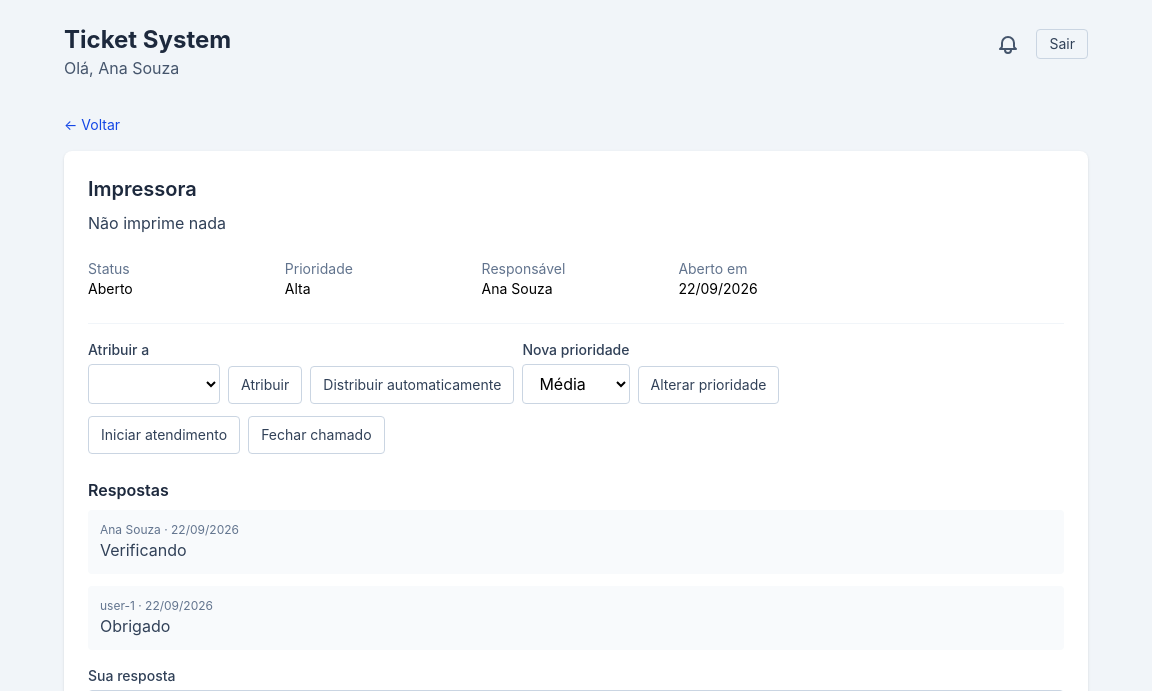
Scenario: TicketDetailView › closing › asks what was done in a dialog before closing
Check: the heading "Impressora" is shown, box [88, 177, 197, 201]
Click the button "Fechar chamado": (316, 435) [248, 416, 385, 454]
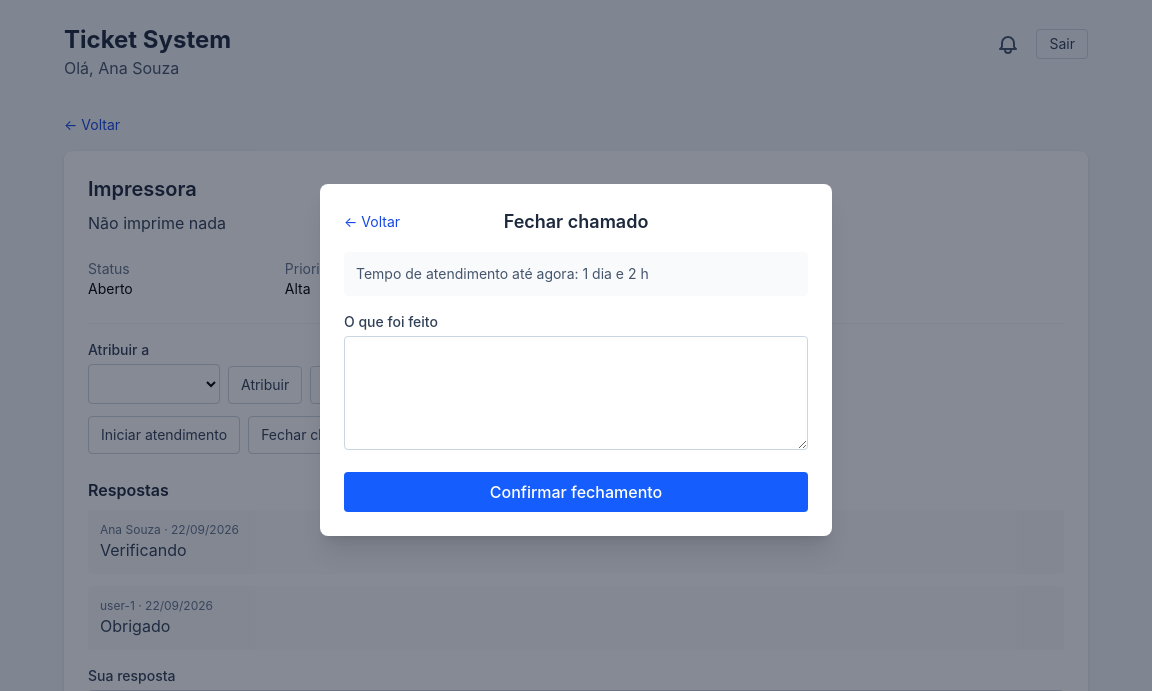
Check: the text "Tempo de atendimento até agora: 1 dia e 2 h" is shown, box [344, 252, 808, 296]
In the text box labelled "O que foi feito": (576, 393) [344, 336, 808, 450], type "Troquei o toner"
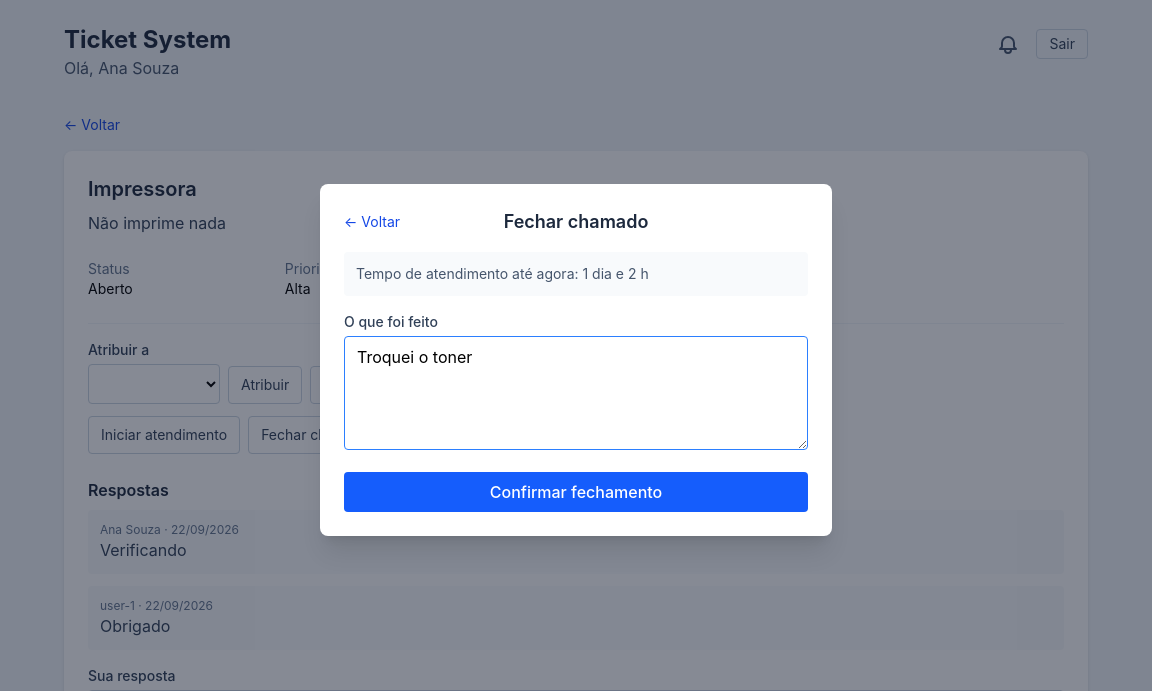
Click the button "Confirmar fechamento": (576, 492) [344, 472, 808, 512]
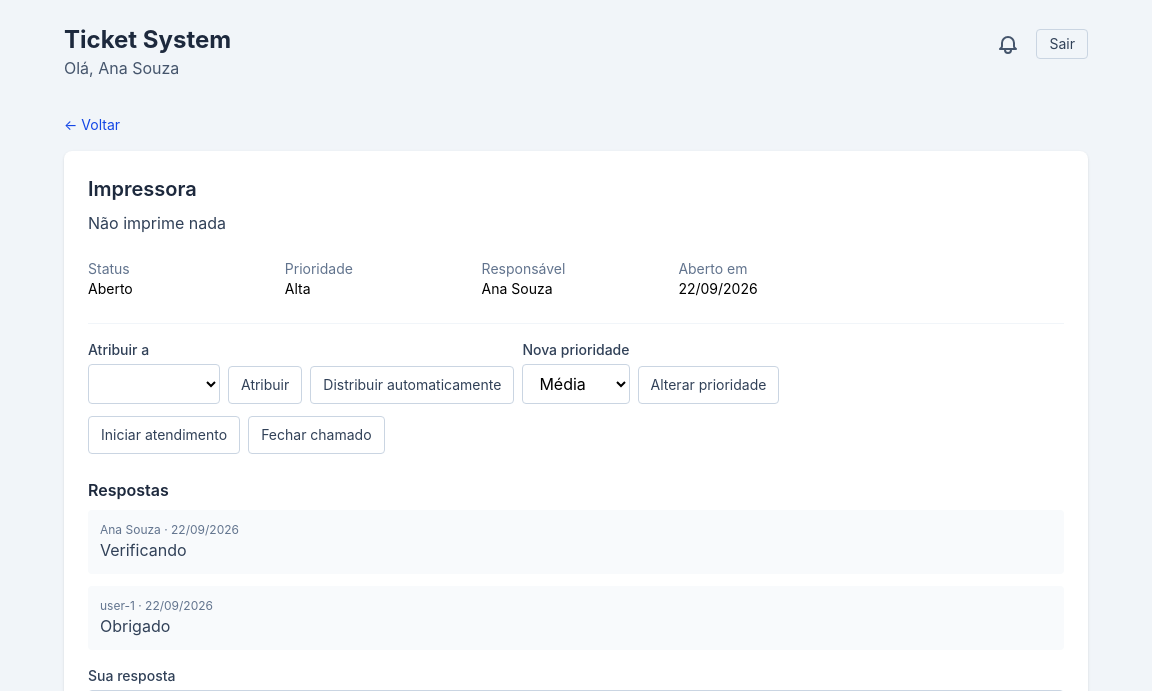
Check: the dialog is gone
